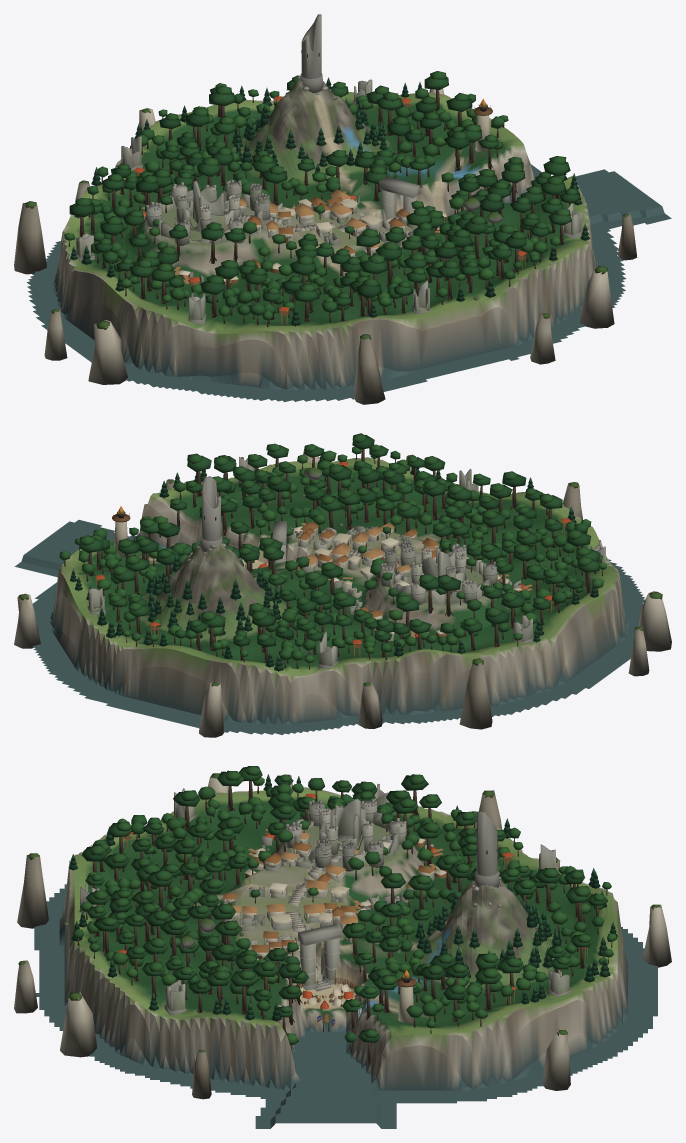
3 views of the same model, one above another, from view 1: azimuth 30°, elevation 25°; view 2: azimuth 150°, elevation 25°; view 3: azimuth 270°, elevation 25° (orthographic). The views are drawn at different scales.
Parts seen in each view (by area): view 1: BASE, VILLE_2, VILLE_3; view 2: BASE, VILLE_2, VILLE_3, VILLE_4; view 3: BASE, VILLE_2, VILLE_3, VILLE_4.
Boxes of the visible parts, left/top/right/bottom form: BASE: left=14, top=14, right=671, bottom=404; VILLE_2: left=120, top=96, right=526, bottom=324; VILLE_3: left=131, top=197, right=311, bottom=286; BASE: left=14, top=433, right=671, bottom=737; VILLE_2: left=95, top=461, right=571, bottom=657; VILLE_3: left=328, top=537, right=532, bottom=640; VILLE_4: left=112, top=506, right=130, bottom=557; BASE: left=14, top=766, right=671, bottom=1128; VILLE_2: left=116, top=793, right=587, bottom=1026; VILLE_3: left=245, top=829, right=446, bottom=915; VILLE_4: left=396, top=969, right=416, bottom=1023.
Size of the model in its own units: 73.44 by 21.36 by 65.41.
